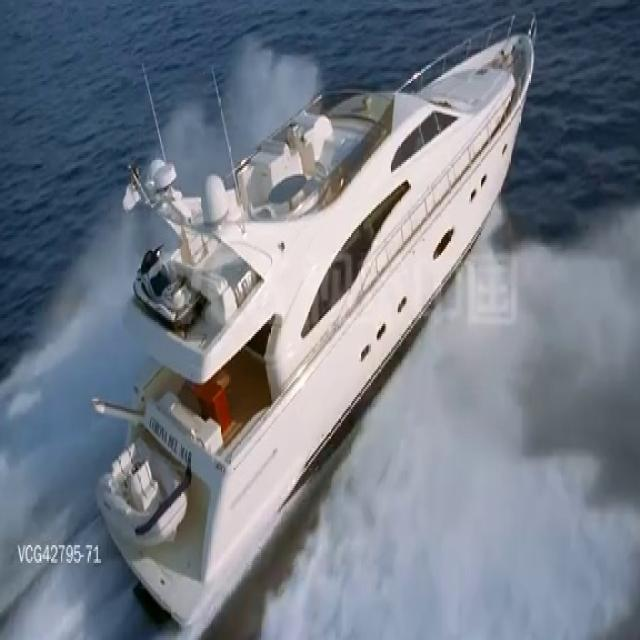houseboat: (92, 0, 546, 626)
